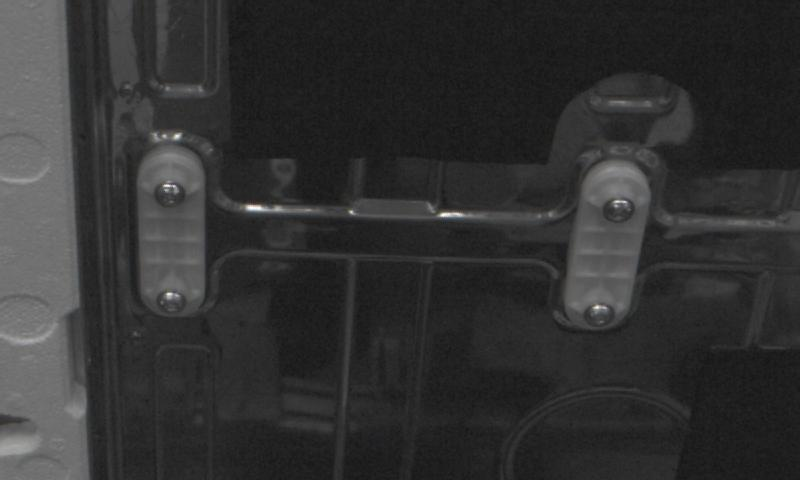vida-ok: (595, 193, 639, 232), (583, 294, 622, 333), (152, 175, 190, 214), (152, 285, 190, 320)
